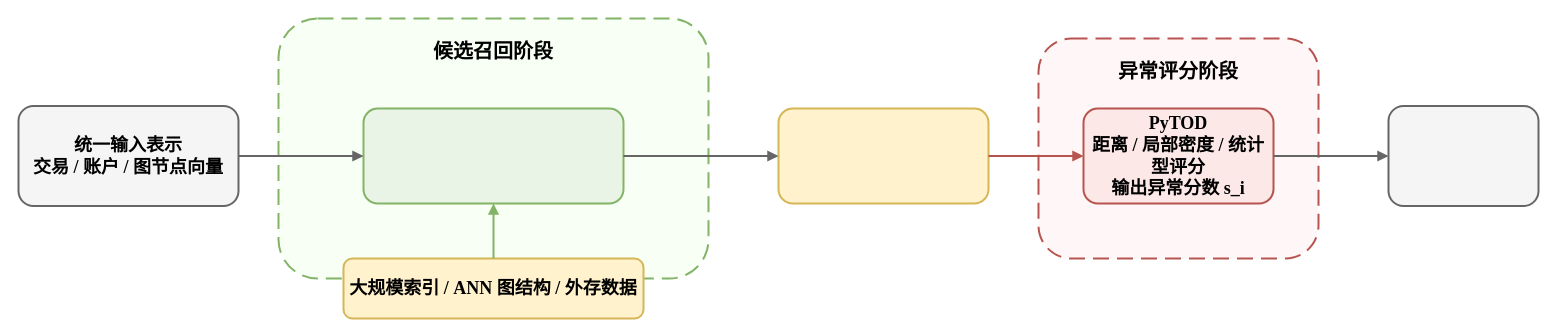
The diagram is 1556 pixels wide and 336 high, and some of its shapes have lost their labels. Each missing label, with the centre of its shape:
FlashANNS GPU + SSD out-of-core ANN 检索 异步 I/O—计算流水线: the point at 493,155
候选集合 C_i candidate IDs / local distances: the point at 883,155
风险排序 / 告警 / 日志输出: the point at 1463,155
